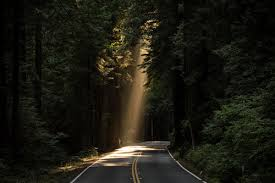strada: (79, 141, 205, 183)
